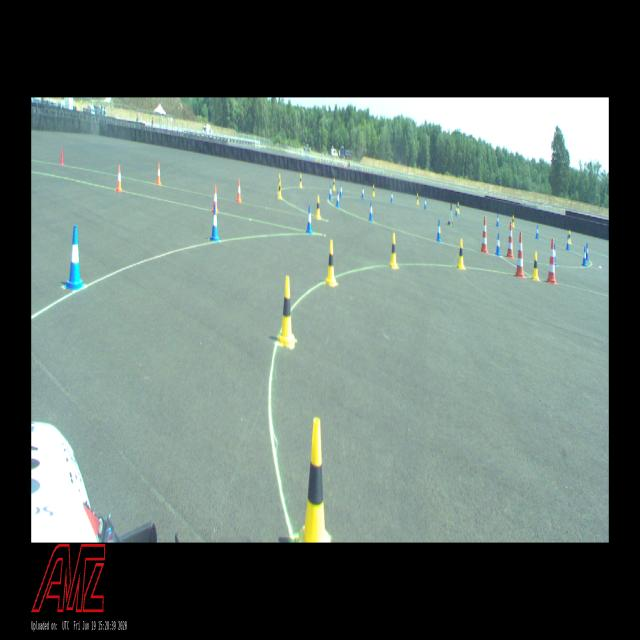blue_cone: (64, 225, 86, 290), (210, 205, 221, 242), (306, 206, 313, 234), (436, 219, 442, 242), (495, 233, 501, 256), (582, 246, 587, 267), (369, 201, 373, 221), (336, 190, 340, 208), (586, 243, 590, 261), (535, 225, 540, 239), (554, 243, 557, 266), (328, 184, 332, 200), (566, 235, 570, 251), (361, 185, 365, 199), (339, 184, 343, 198), (455, 203, 458, 216), (391, 191, 394, 203), (496, 214, 499, 226), (424, 197, 427, 209)
large_orange_cone: (514, 232, 526, 280), (546, 238, 558, 285), (480, 216, 489, 255), (506, 222, 514, 259)
orange_cone: (115, 166, 123, 192), (212, 185, 219, 214), (236, 180, 242, 202), (156, 163, 162, 184)
unknown_cone: (60, 146, 64, 165)
yellow_cone: (295, 417, 333, 542), (278, 276, 296, 346), (326, 240, 338, 286), (389, 233, 399, 269), (457, 239, 466, 269), (531, 252, 540, 281), (316, 196, 322, 219), (278, 181, 282, 200), (278, 174, 282, 191), (299, 174, 303, 188), (332, 178, 336, 190), (569, 230, 572, 244), (372, 184, 375, 197), (512, 215, 515, 228), (416, 193, 419, 205), (458, 202, 460, 214)
